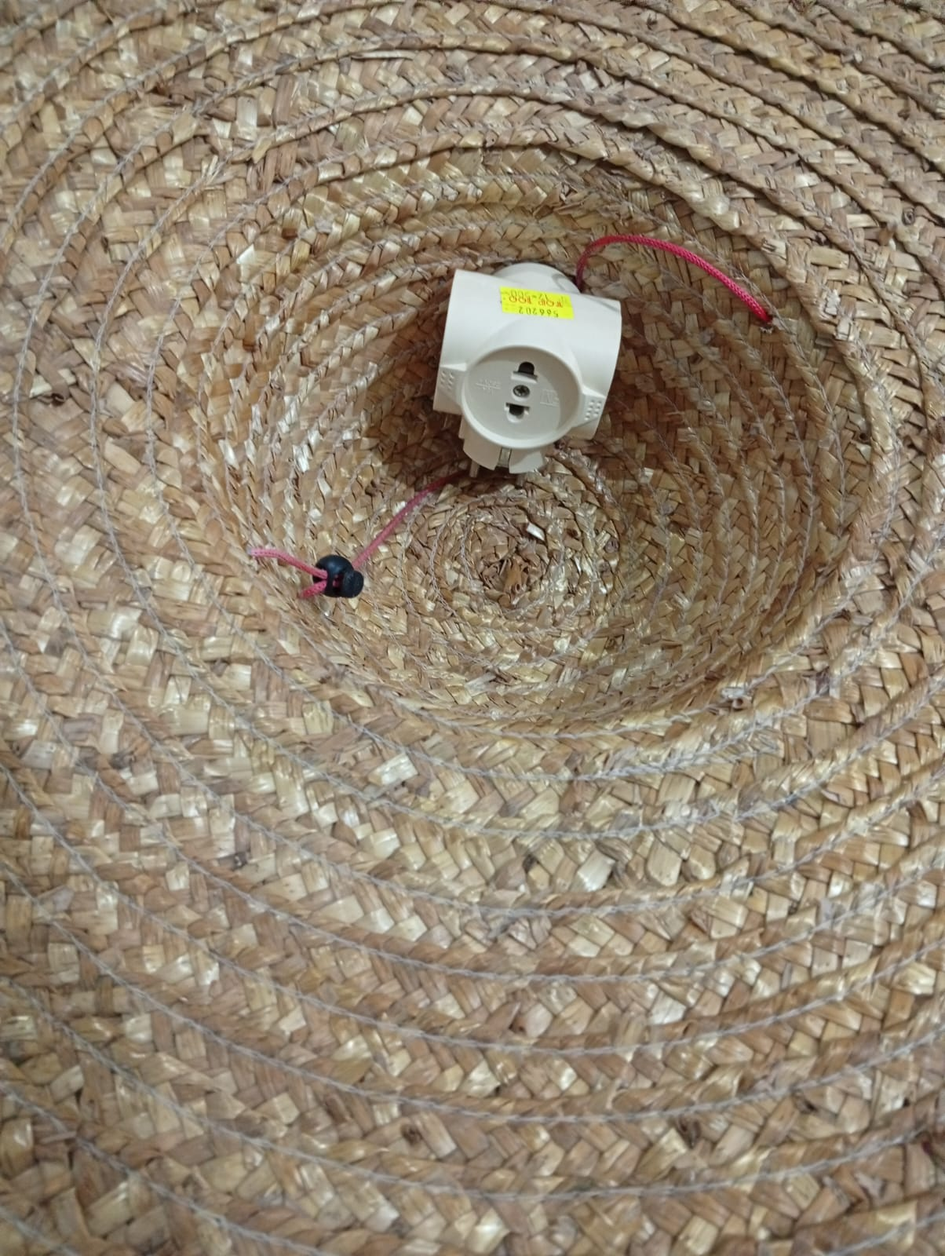Colokan: (399, 226, 659, 506)
